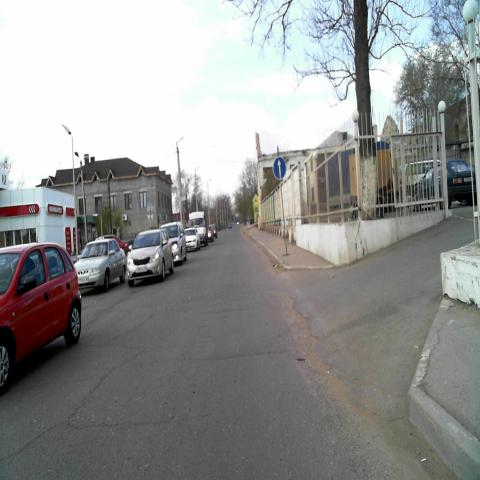4_1_1: (272, 156, 286, 180)
